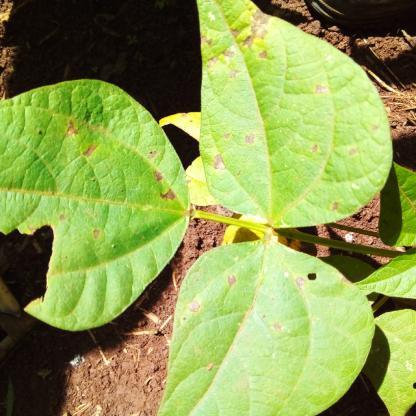Beans_Angular_LeafSpot: (195, 6, 387, 224), (0, 90, 192, 298), (168, 238, 360, 415)
